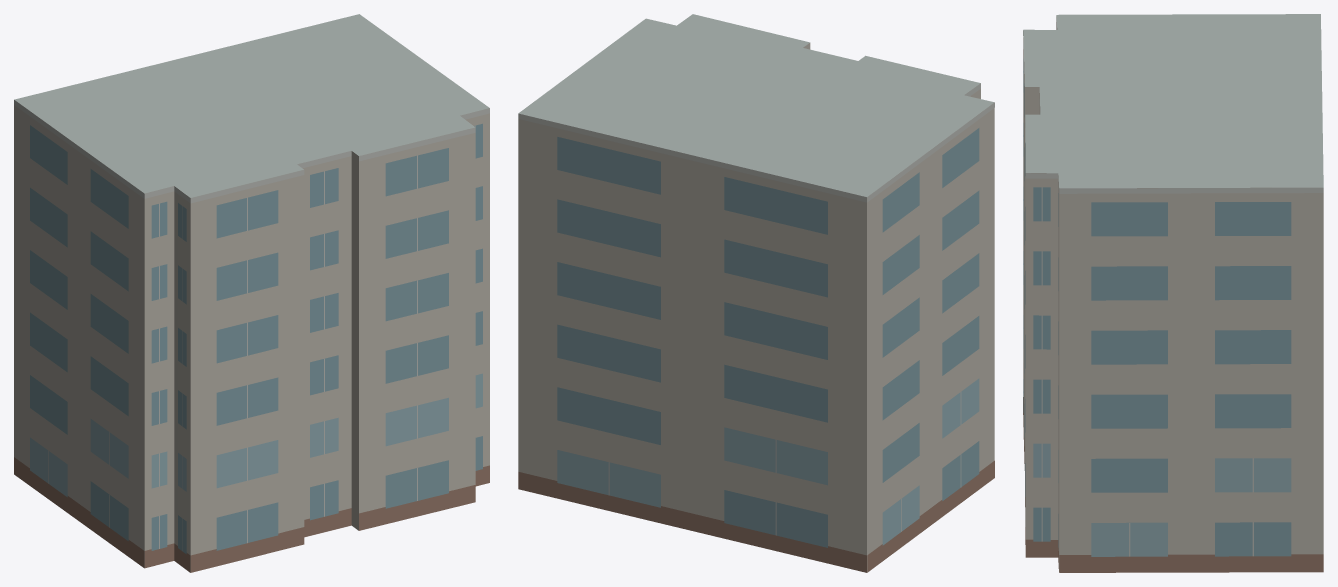
Rendered from survey-upis-32973626.glb.
The picture shows the model from 3 angles, left to right: view 1: azimuth 30°, elevation 25°; view 2: azimuth 150°, elevation 25°; view 3: azimuth 270°, elevation 25°; orthographic projection. The views are drawn at different scales.
Parts seen in each view (by area): view 1: survey-upis-32973626.tmp; view 2: survey-upis-32973626.tmp; view 3: survey-upis-32973626.tmp.
Boxes of the visible parts, box(x1,y1,x2,y2) form: survey-upis-32973626.tmp: box(14, 14, 489, 572); survey-upis-32973626.tmp: box(518, 14, 994, 572); survey-upis-32973626.tmp: box(1023, 14, 1323, 572).
Bounding box in the file's own units: 16.54 × 17 × 12.05.
